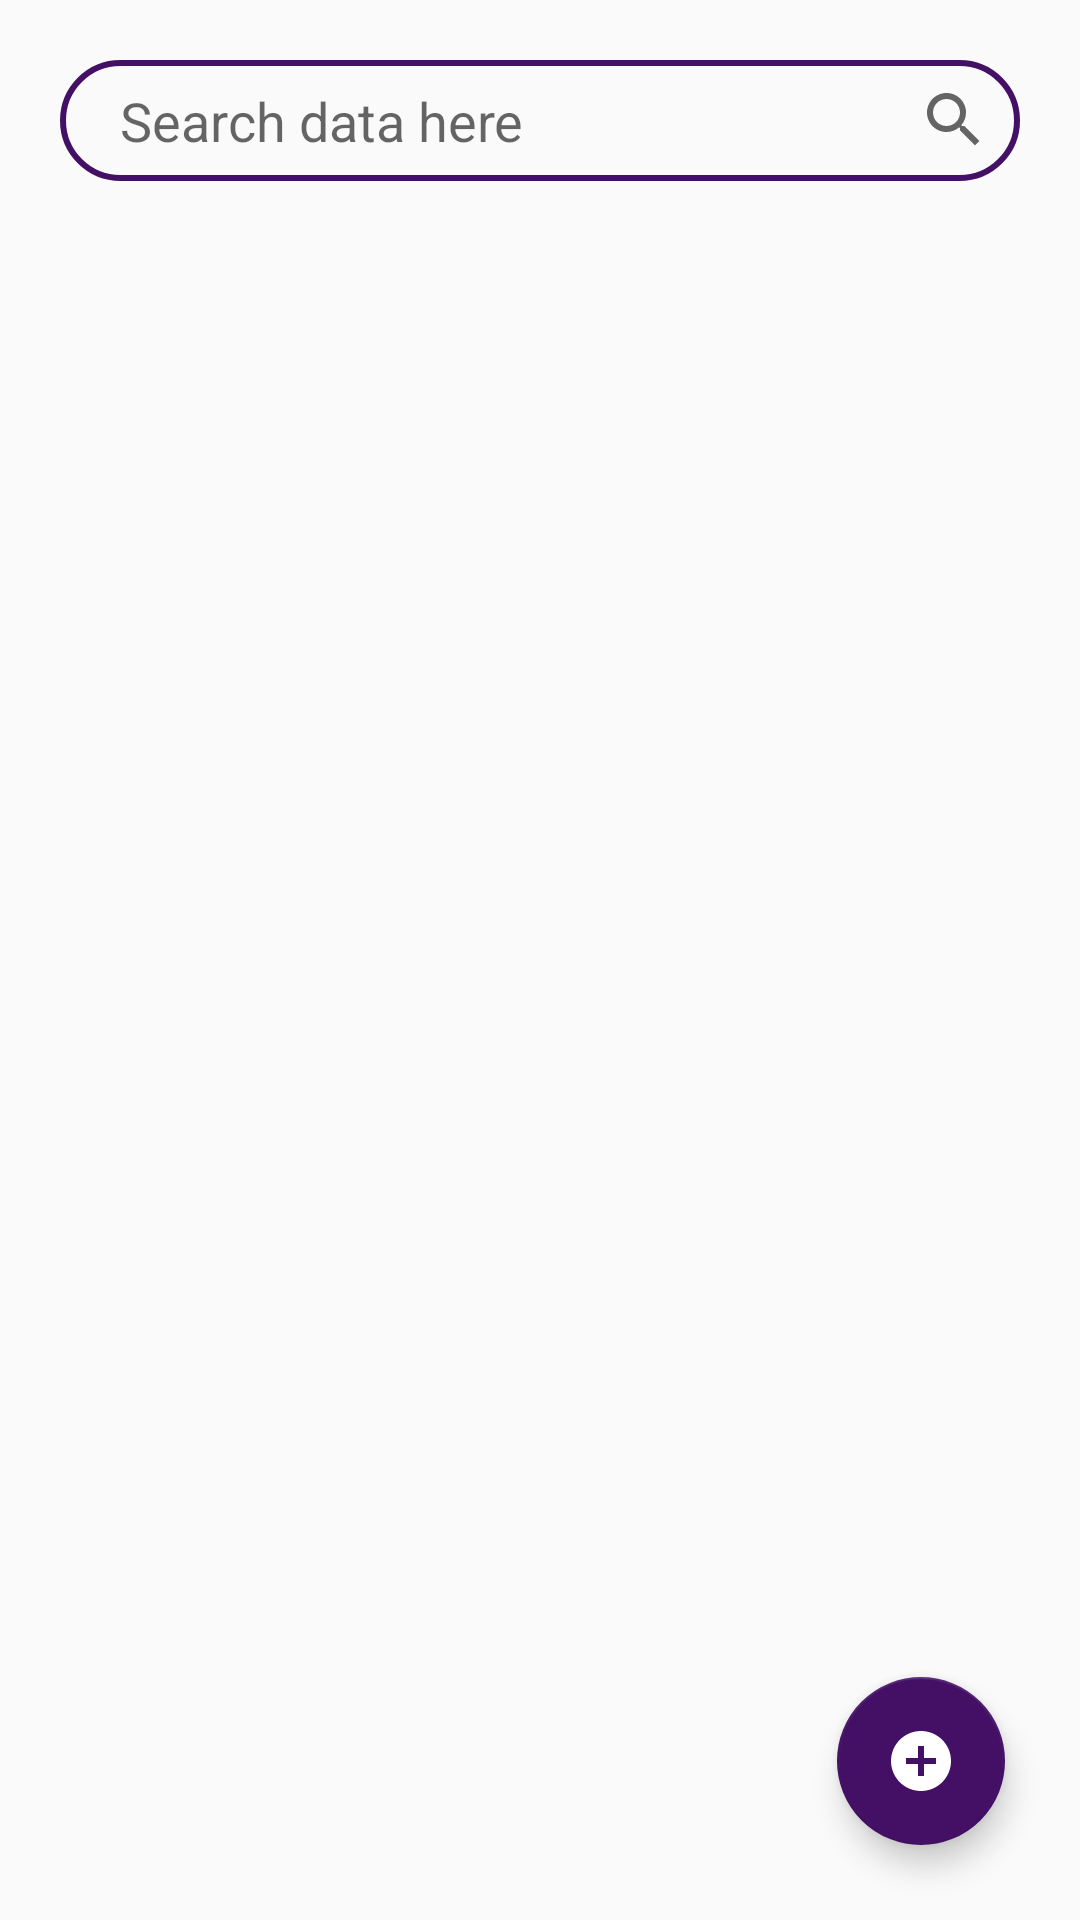

Screen size 1080x1920. Icon name, then its box in pixels as (x1, y1, x2, y2):
add: (837, 1677, 1005, 1845)
